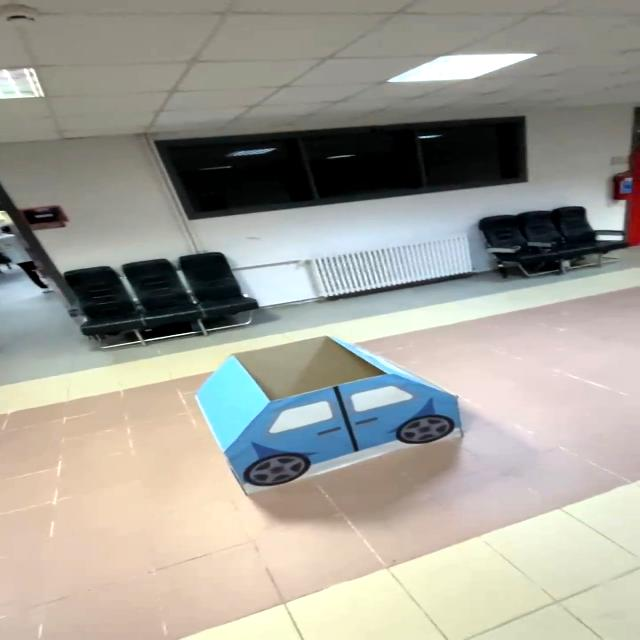blue_car: (167, 322, 501, 500)
